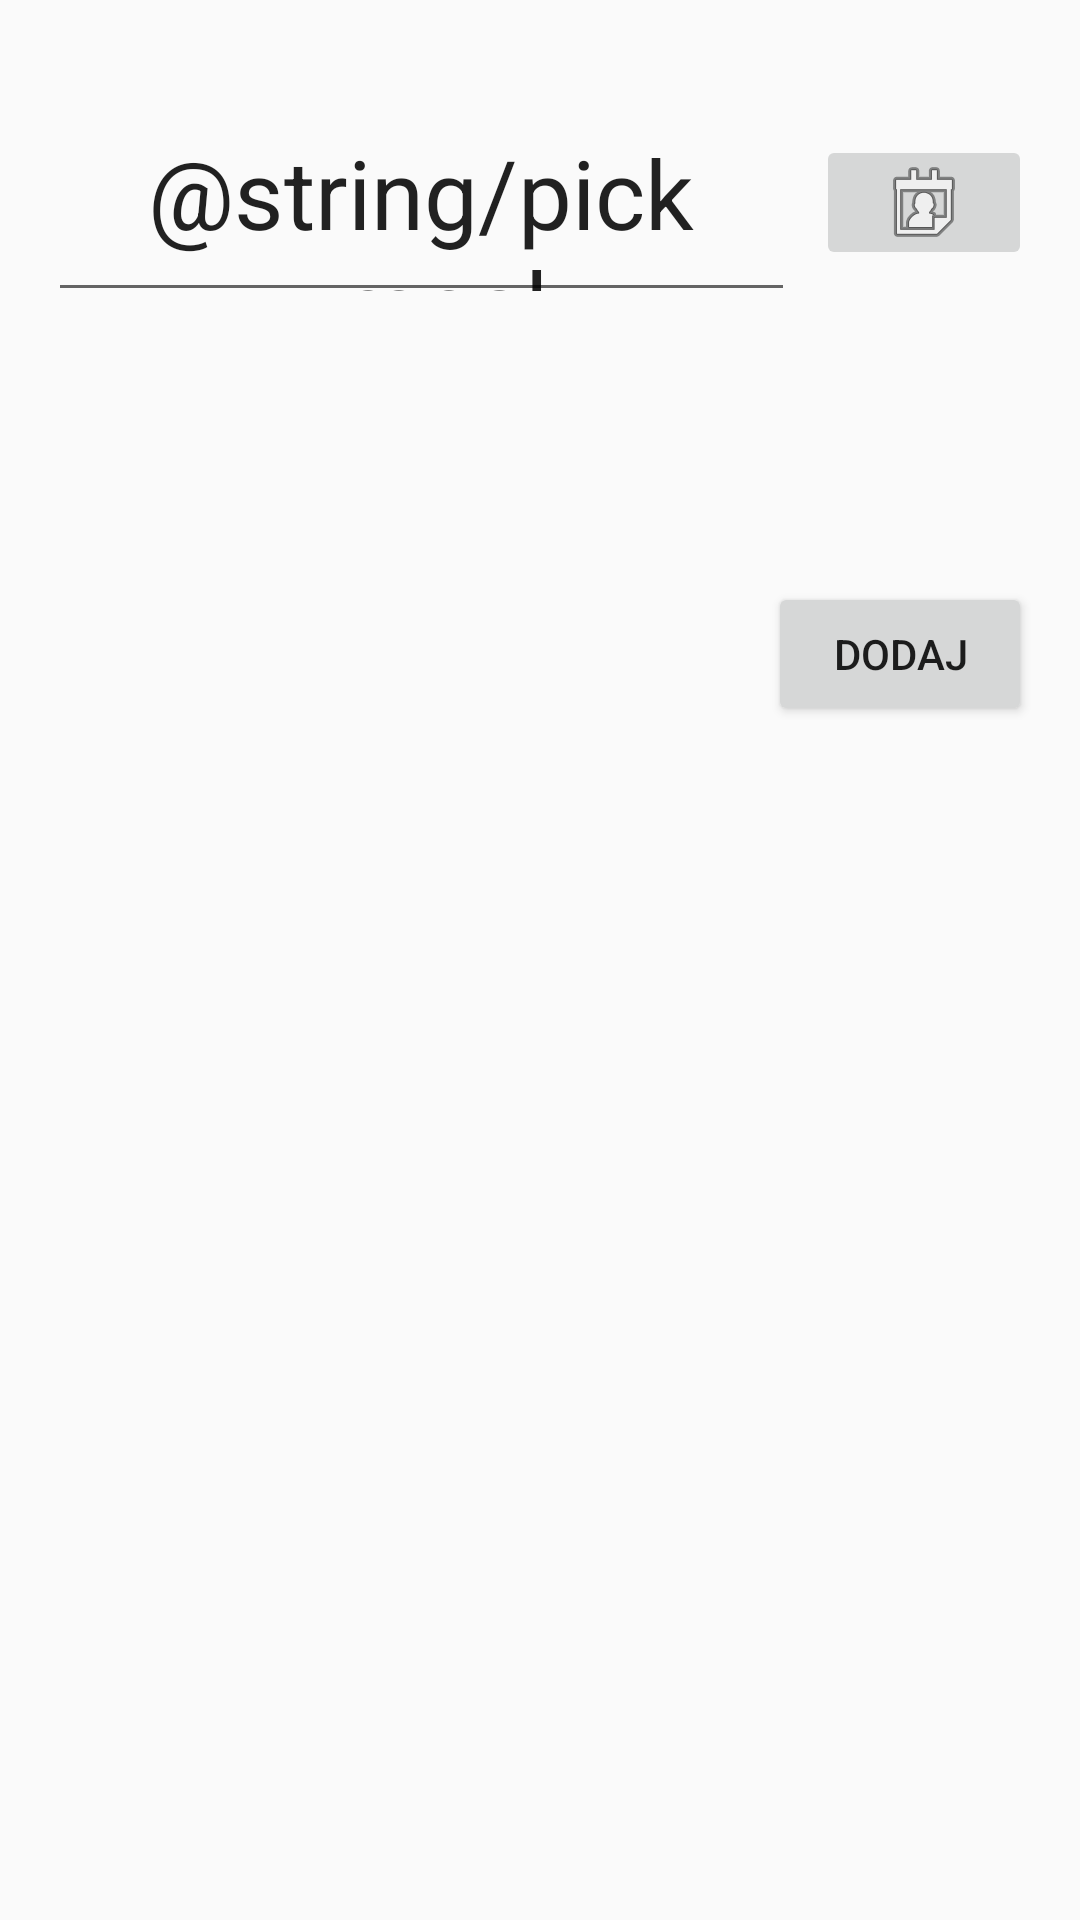

Named icons in this screenshot (1080 x 1920) and their centers, point (x, y):
calendar: point (924, 202)
